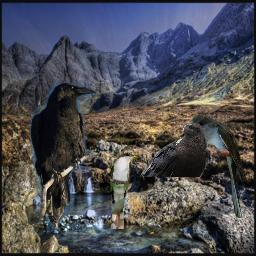Crow: (30, 82, 97, 233), (139, 122, 209, 177)
Cuckoo: (184, 115, 247, 218), (109, 151, 140, 229)
